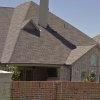Chimney: (37, 3, 52, 29)
